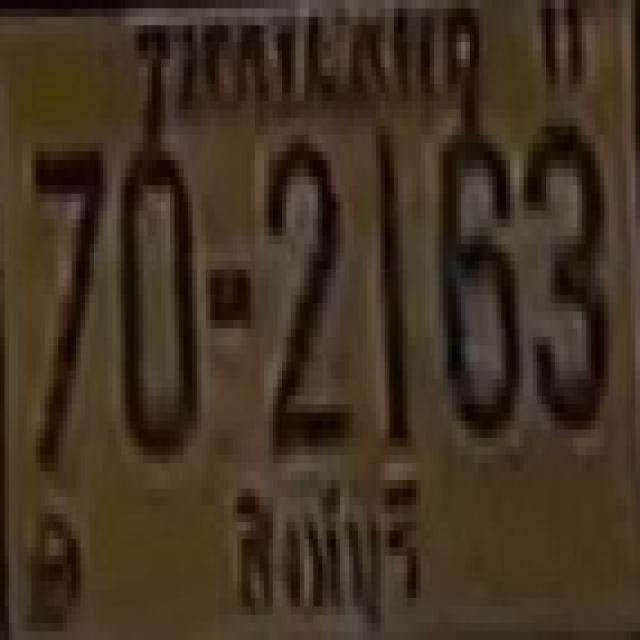0: (119, 143, 194, 446)
1: (374, 126, 405, 438)
2: (264, 131, 340, 442)
3: (519, 118, 604, 421)
6: (434, 118, 515, 429)
7: (31, 143, 103, 463)
SBR: (219, 465, 444, 635)
